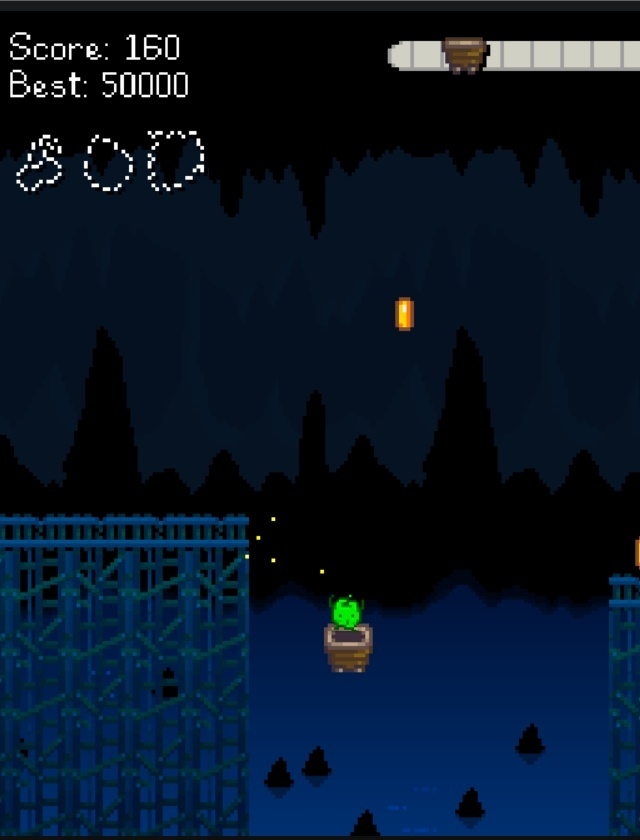coins: (395, 297, 414, 331)
minecart: (324, 624, 372, 672)
tracks: (0, 508, 256, 554), (604, 569, 640, 608)
